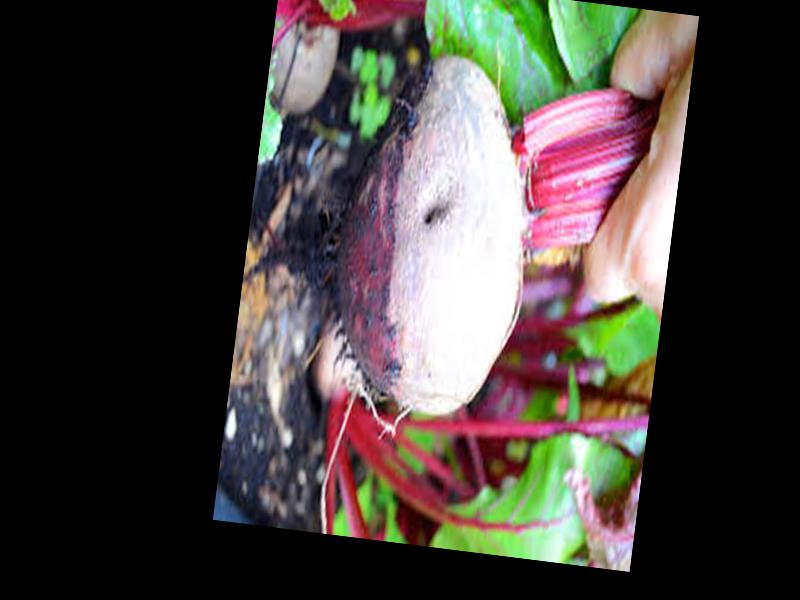Beet: (228, 34, 662, 441)
